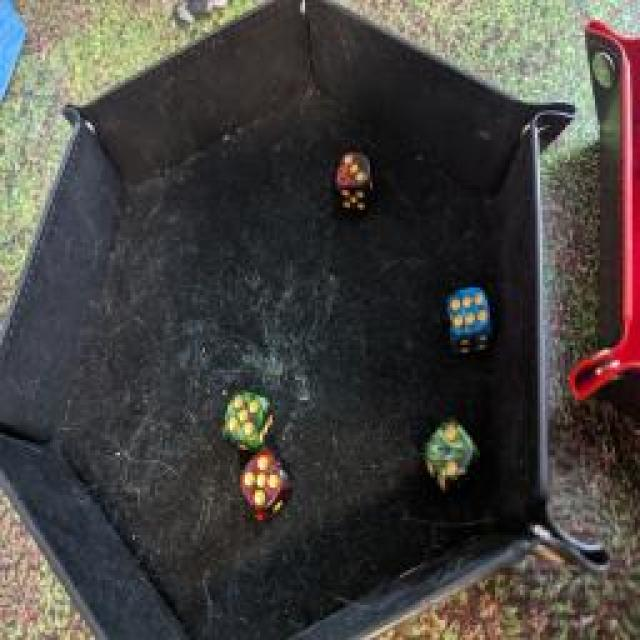dice_2: (421, 414, 484, 496)
dice_3: (335, 148, 375, 212)
dice_5: (235, 442, 293, 528), (222, 384, 276, 451)
dice_6: (444, 284, 501, 358)
